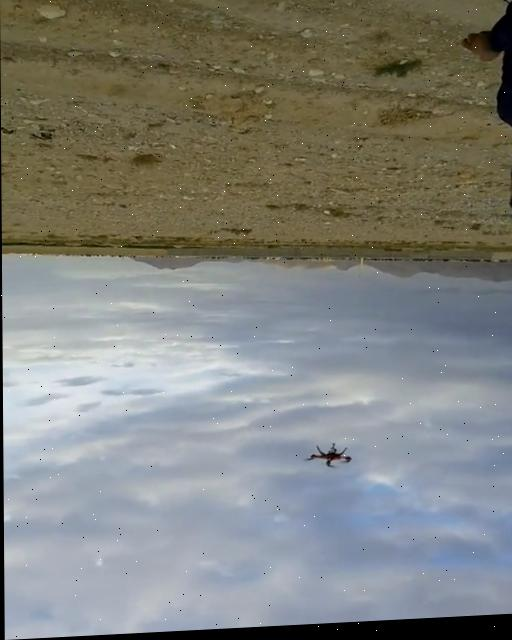drone: (301, 443, 355, 479)
